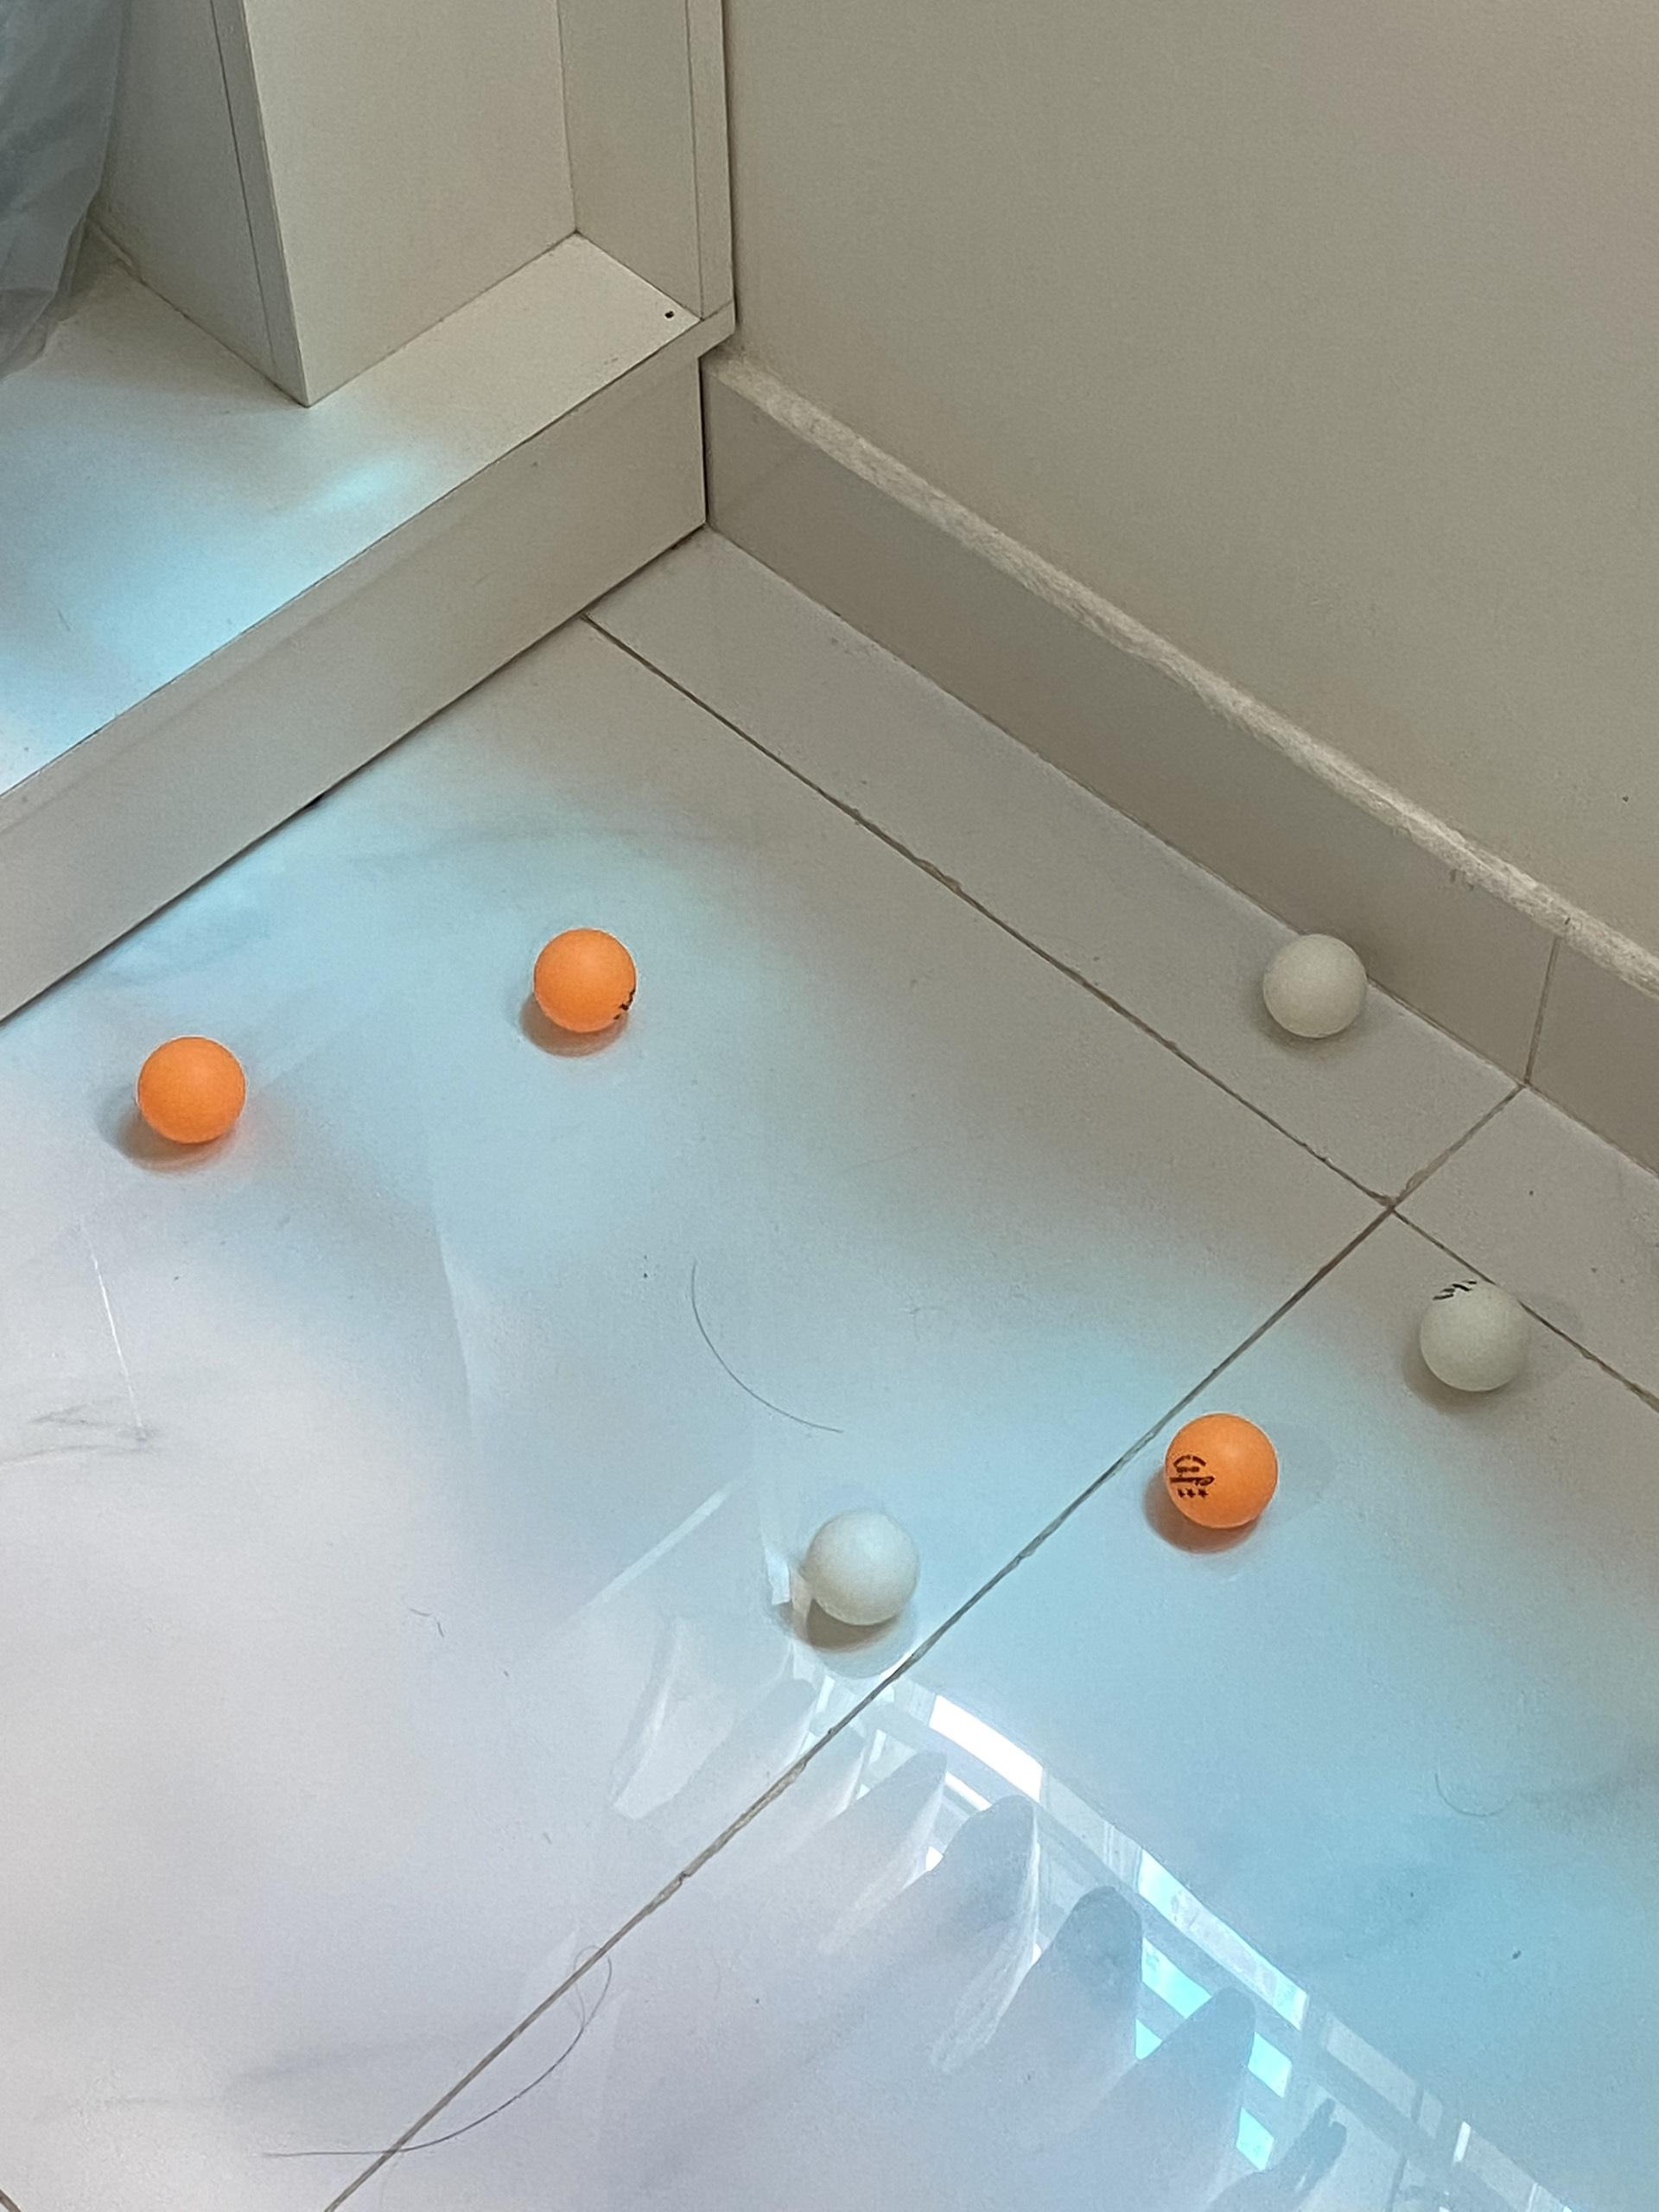oball: (1164, 1411, 1281, 1534), (141, 1036, 247, 1143), (535, 927, 636, 1035)
